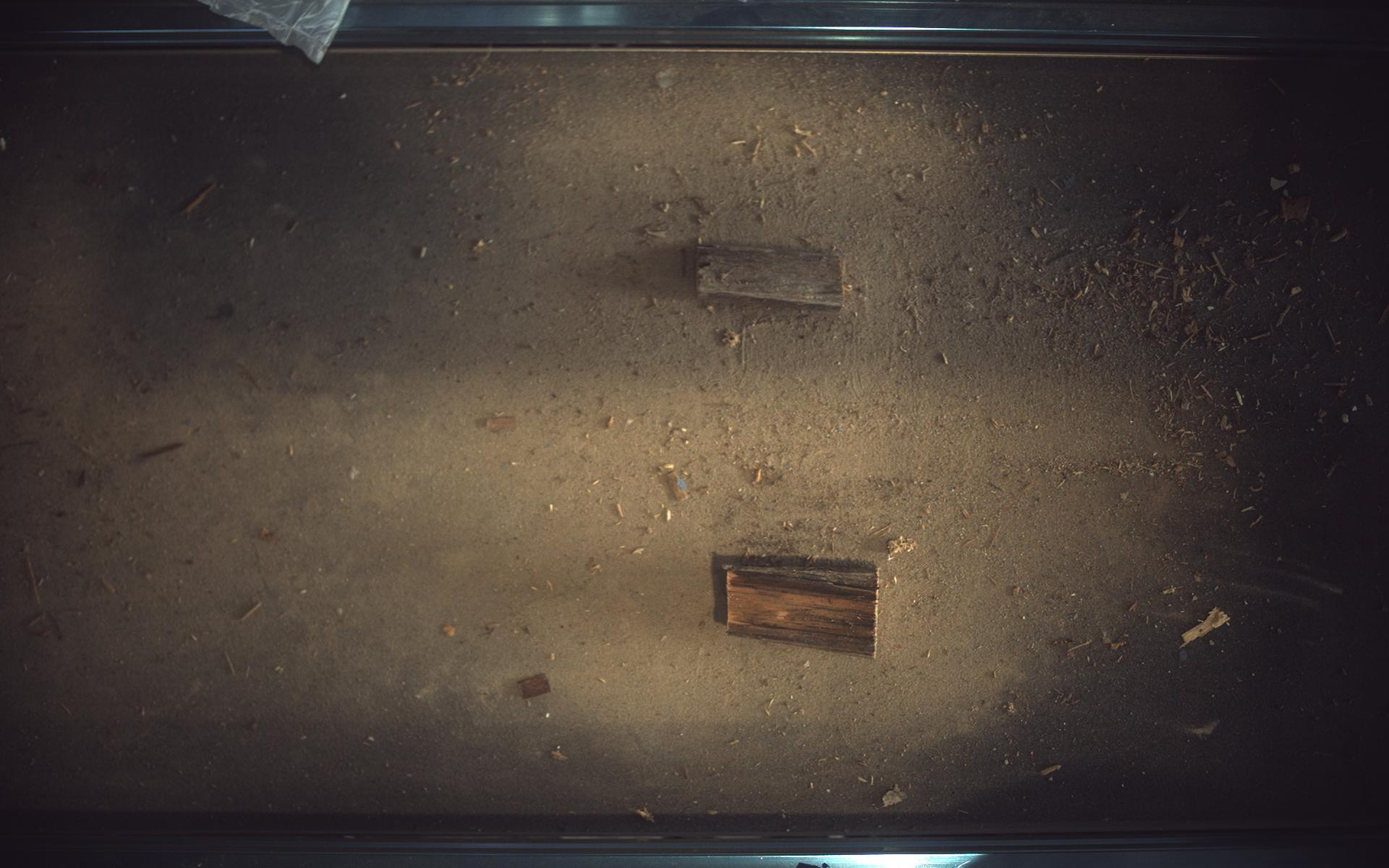wood: (714, 556, 880, 658), (697, 242, 846, 307)
